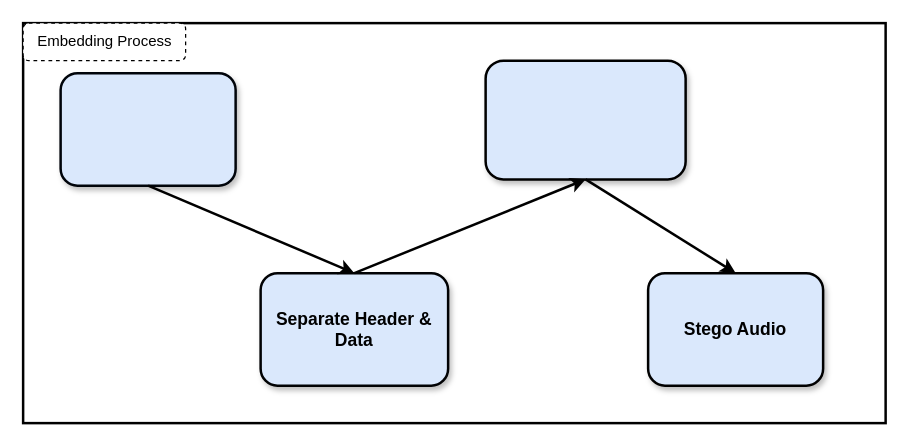
The diagram is 908 pixels wide and 445 high, and some of its shapes have lost their labels. Each missing label, with the centre of its shape:
"Audio Input" goes at point (149, 130).
"Replace LSB of Data" goes at point (586, 121).
